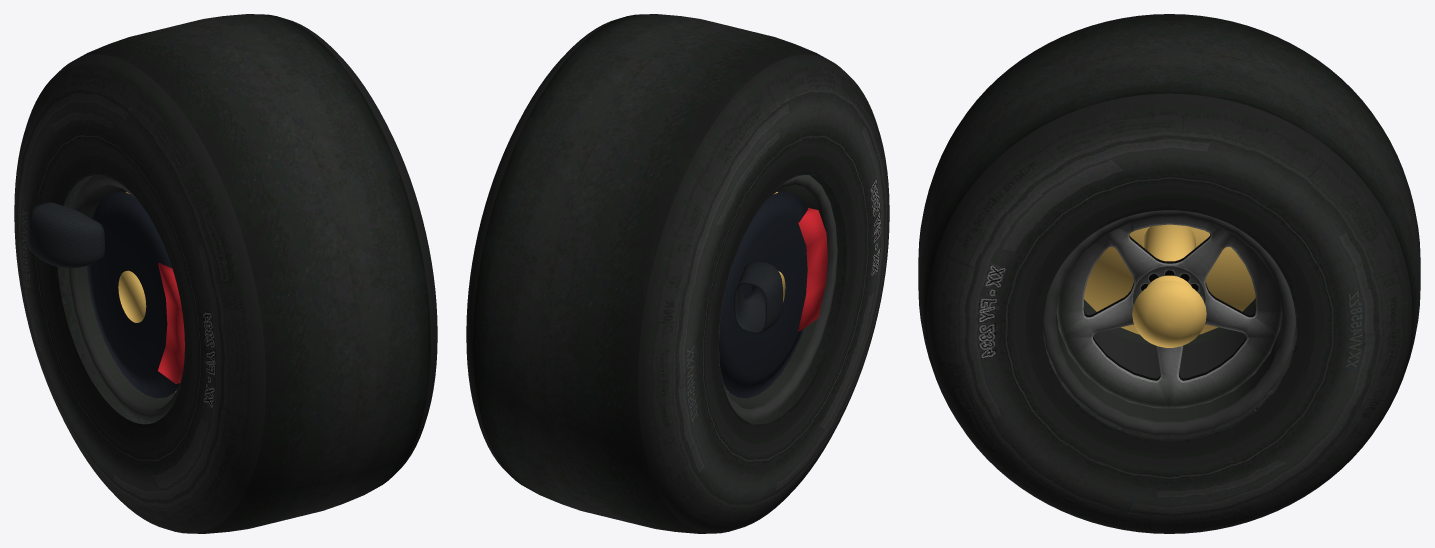
The model's file is f1_2030_v10_wheel_FR.glb.
3 renders of one model, left to right at view 1: azimuth 30°, elevation 25°; view 2: azimuth 150°, elevation 25°; view 3: azimuth 270°, elevation 25°, orthographic.
Visible parts, largest first — view 1: GEO_WHEEL_FRONT_RIGHT_TIRE, GEO_BRAKE_FRONT_RIGHT_DISC, GEO_WHEEL_FRONT_RIGHT_RIM_AND_SPOKES, GEO_BRAKE_FRONT_RIGHT_DUCT, GEO_BRAKE_FRONT_RIGHT_CALIPER, GEO_WHEEL_FRONT_RIGHT_HUB; view 2: GEO_WHEEL_FRONT_RIGHT_TIRE, GEO_BRAKE_FRONT_RIGHT_DISC, GEO_WHEEL_FRONT_RIGHT_RIM_AND_SPOKES, GEO_BRAKE_FRONT_RIGHT_DUCT, GEO_BRAKE_FRONT_RIGHT_CALIPER; view 3: GEO_WHEEL_FRONT_RIGHT_TIRE, GEO_WHEEL_FRONT_RIGHT_RIM_AND_SPOKES, GEO_BRAKE_FRONT_RIGHT_INBOARD_DUCT_COVER, GEO_WHEEL_FRONT_RIGHT_CENTER_LOCK_NUT, GEO_WHEEL_FRONT_RIGHT_HUB.
Boxes of the visible parts, bbox=[...] form: GEO_WHEEL_FRONT_RIGHT_TIRE: bbox=[14, 14, 437, 533]; GEO_BRAKE_FRONT_RIGHT_DISC: bbox=[87, 192, 180, 398]; GEO_WHEEL_FRONT_RIGHT_RIM_AND_SPOKES: bbox=[67, 175, 182, 422]; GEO_BRAKE_FRONT_RIGHT_DUCT: bbox=[27, 202, 104, 268]; GEO_BRAKE_FRONT_RIGHT_CALIPER: bbox=[158, 263, 184, 383]; GEO_WHEEL_FRONT_RIGHT_HUB: bbox=[118, 270, 146, 322]; GEO_WHEEL_FRONT_RIGHT_TIRE: bbox=[466, 14, 889, 533]; GEO_BRAKE_FRONT_RIGHT_DISC: bbox=[719, 192, 807, 398]; GEO_WHEEL_FRONT_RIGHT_RIM_AND_SPOKES: bbox=[721, 175, 837, 422]; GEO_BRAKE_FRONT_RIGHT_DUCT: bbox=[734, 262, 782, 333]; GEO_BRAKE_FRONT_RIGHT_CALIPER: bbox=[798, 207, 827, 330]; GEO_WHEEL_FRONT_RIGHT_TIRE: bbox=[918, 14, 1420, 533]; GEO_WHEEL_FRONT_RIGHT_RIM_AND_SPOKES: bbox=[1043, 210, 1295, 435]; GEO_BRAKE_FRONT_RIGHT_INBOARD_DUCT_COVER: bbox=[1084, 226, 1255, 334]; GEO_WHEEL_FRONT_RIGHT_CENTER_LOCK_NUT: bbox=[1132, 280, 1206, 347]; GEO_WHEEL_FRONT_RIGHT_HUB: bbox=[1143, 224, 1195, 287].
Bounding box in the file's own units: 0.3861 × 0.67 × 0.67.
7 materials, 4 textured.
